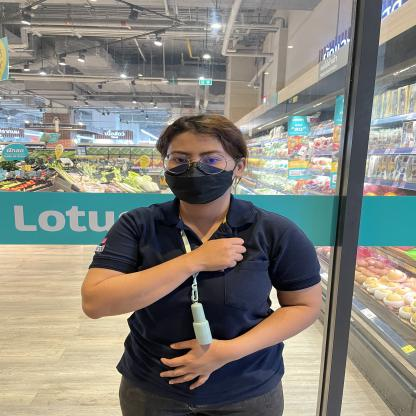Sadness: (76, 228, 274, 324)
